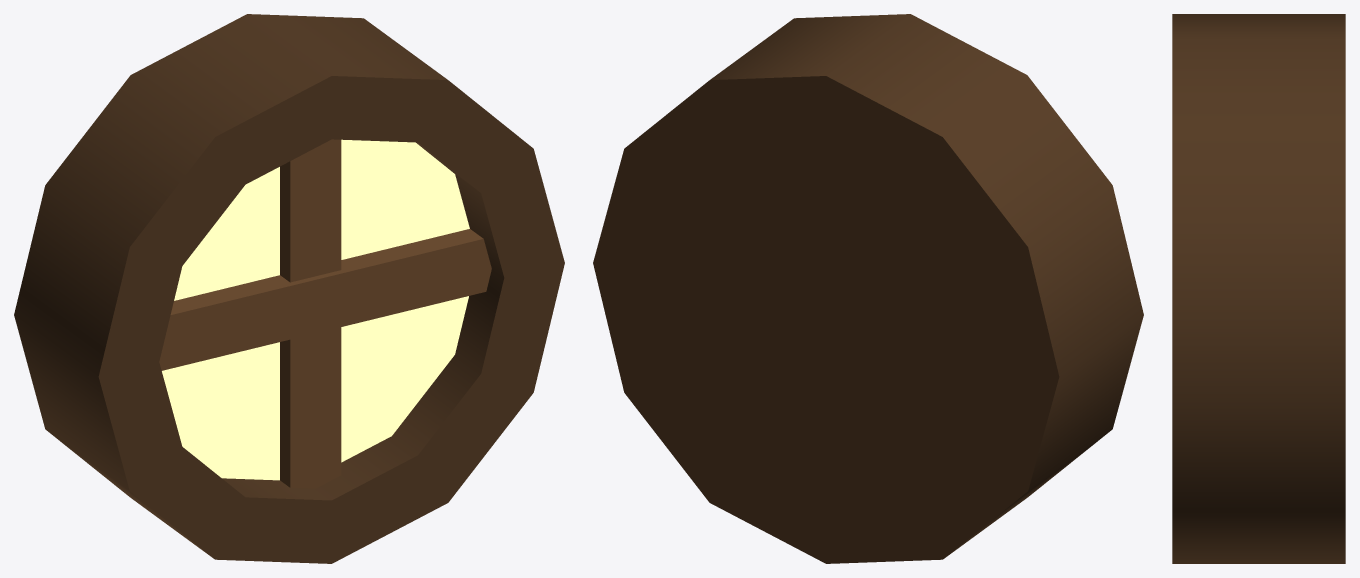
Rendered from Window_1.glb.
The picture shows the model from 3 angles, left to right: view 1: azimuth 30°, elevation 25°; view 2: azimuth 150°, elevation 25°; view 3: azimuth 270°, elevation 25°; orthographic projection. The views are drawn at different scales.
Visible parts, largest first — view 1: Window_1; view 2: Window_1; view 3: Window_1.
Part boxes in pixels (x1=…): Window_1: x1=14, y1=14, x2=564, y2=563; Window_1: x1=593, y1=14, x2=1143, y2=563; Window_1: x1=1172, y1=14, x2=1345, y2=563.
Size of the model in its own units: 0.3797 by 0.3797 by 0.1193.
